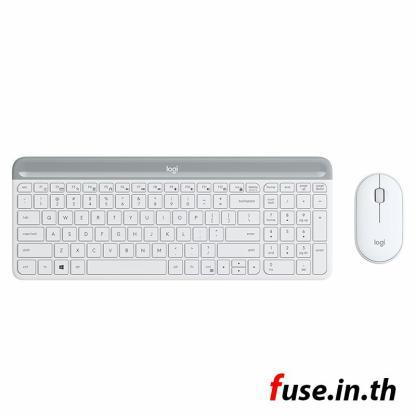keyboard: (10, 155, 334, 279)
